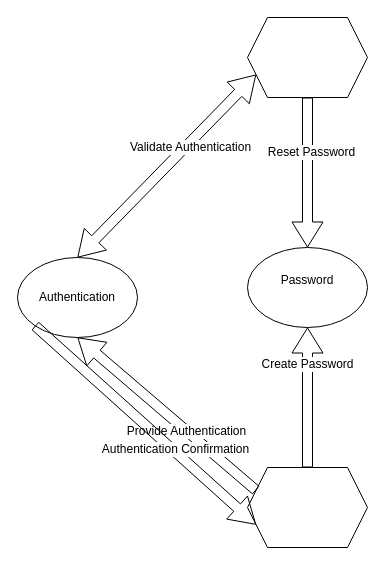
The diagram is 385 pixels wide and 565 high, and some of its shapes have lost their labels. The centre of each missing label's shape, as x and y in pixels:
Admin: the point at 307,57
User: the point at 307,507
